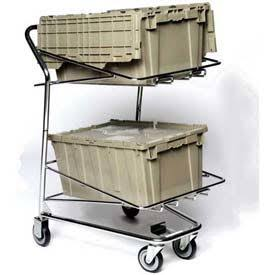Carts: (23, 24, 227, 273)
